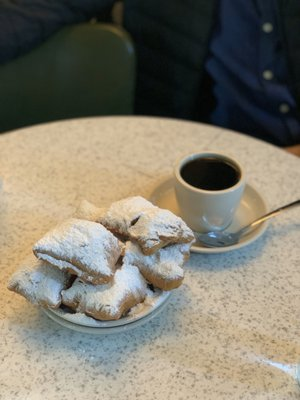pizza: (173, 152, 247, 235)
salad: (194, 198, 300, 248)
